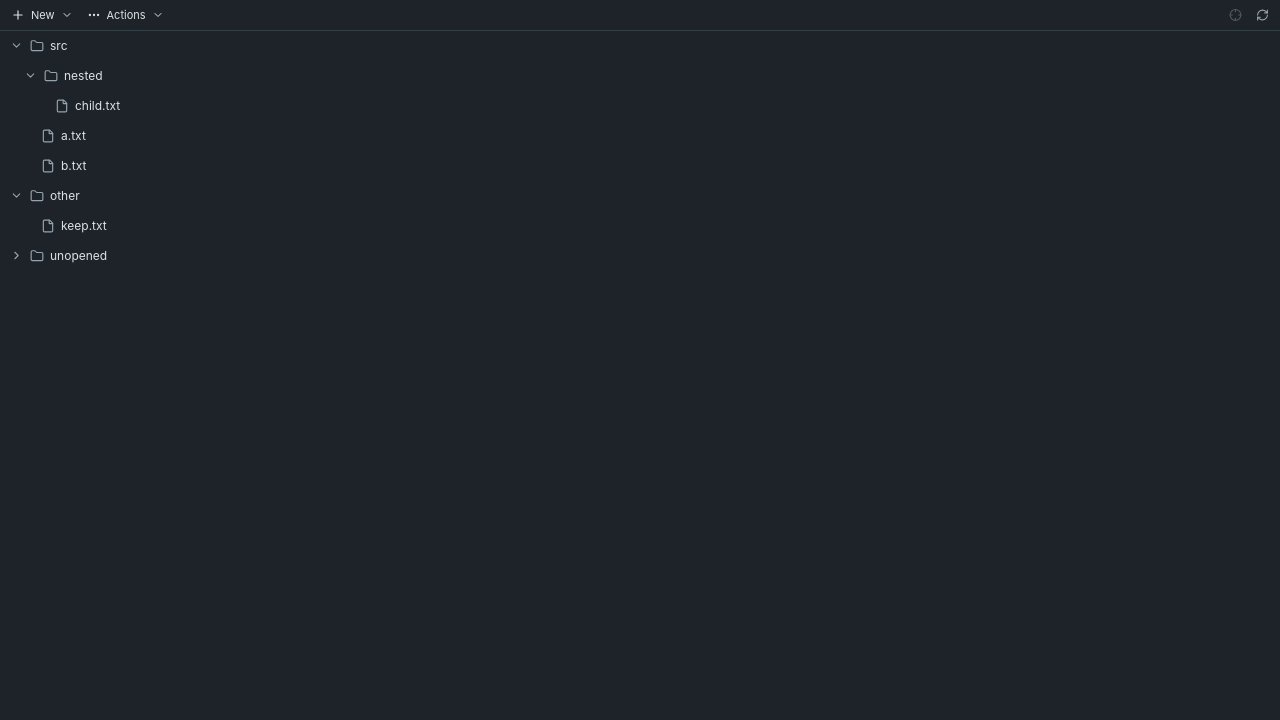
Scenario: keeps renamed folders and their descendants expanded using fresh native IDs, preserving unrelated branches
The width and height of the screenshot is (1280, 720).
Expected: the text "keep.txt" is shown, [61,218,107,233]
Click the text "src" at (59, 46), box [50,38,68,53]
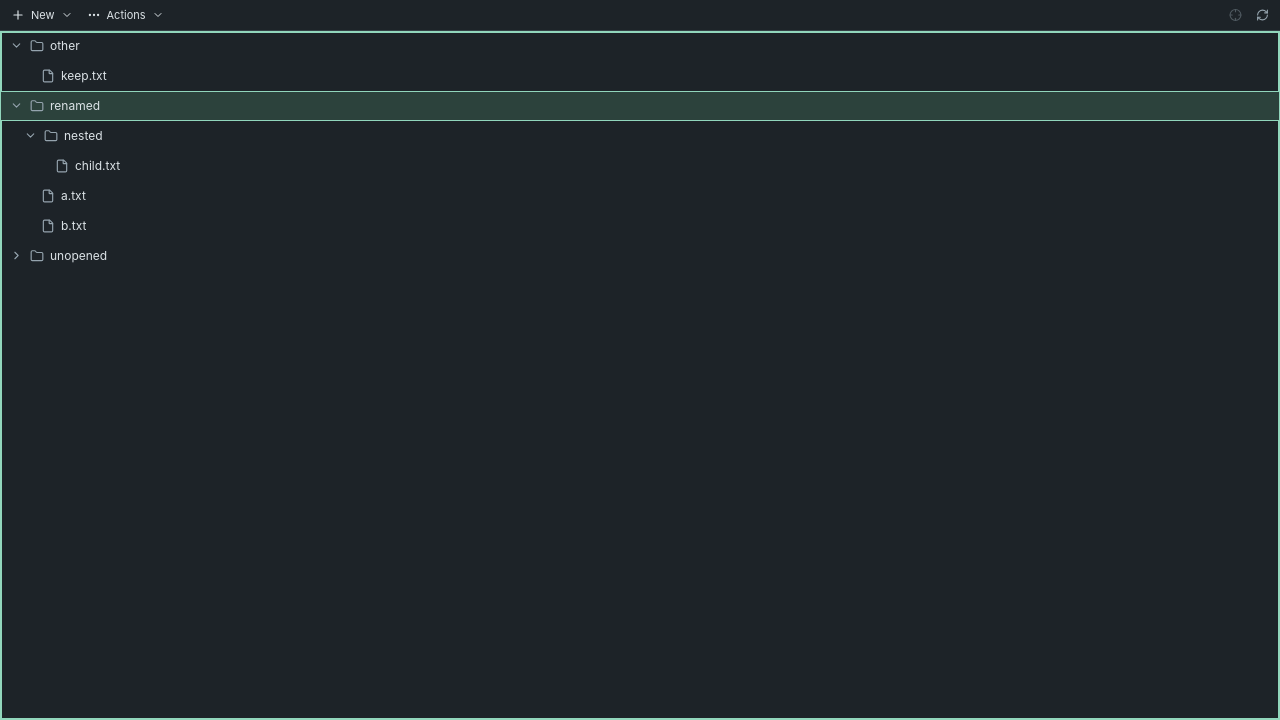
Now the text "child.txt" is shown
Now the text "a.txt" is shown, box [61,188,86,203]
Now the text "keep.txt" is shown, box [61,68,107,83]
Click the text "child.txt" at (98, 166), box [75,158,120,173]
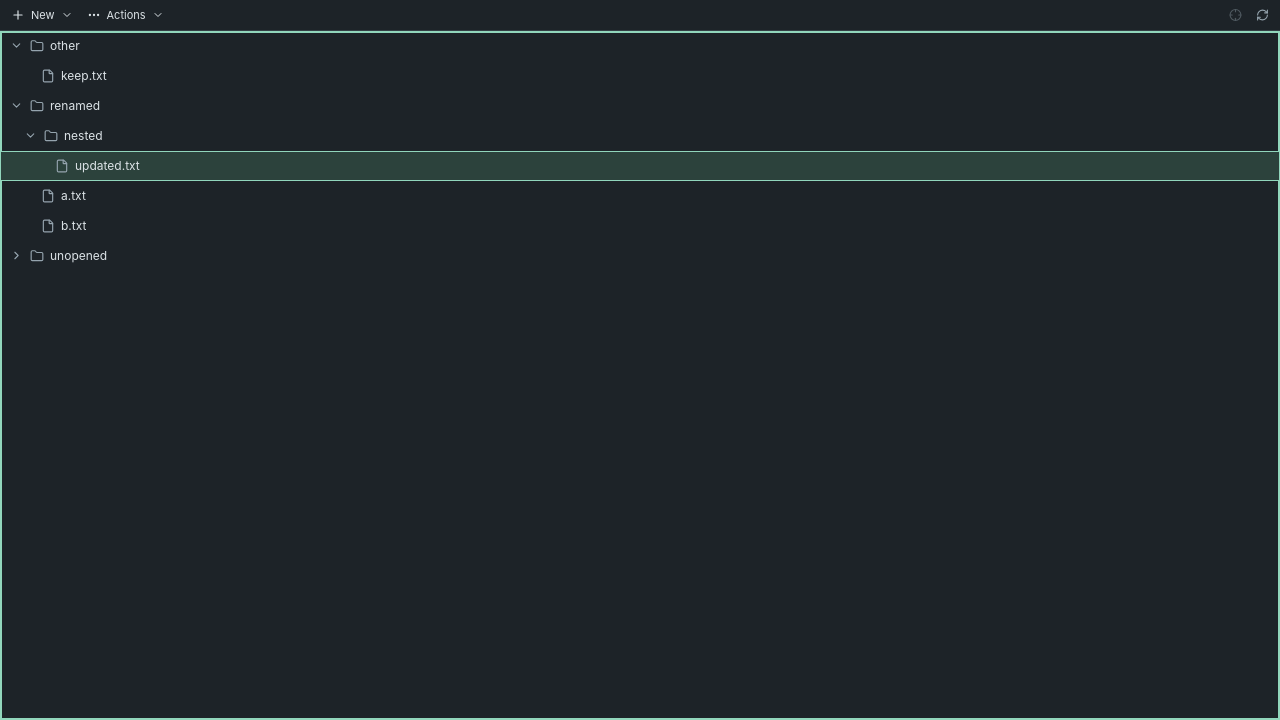
Now the text "updated.txt" is shown, box [75,158,140,173]
